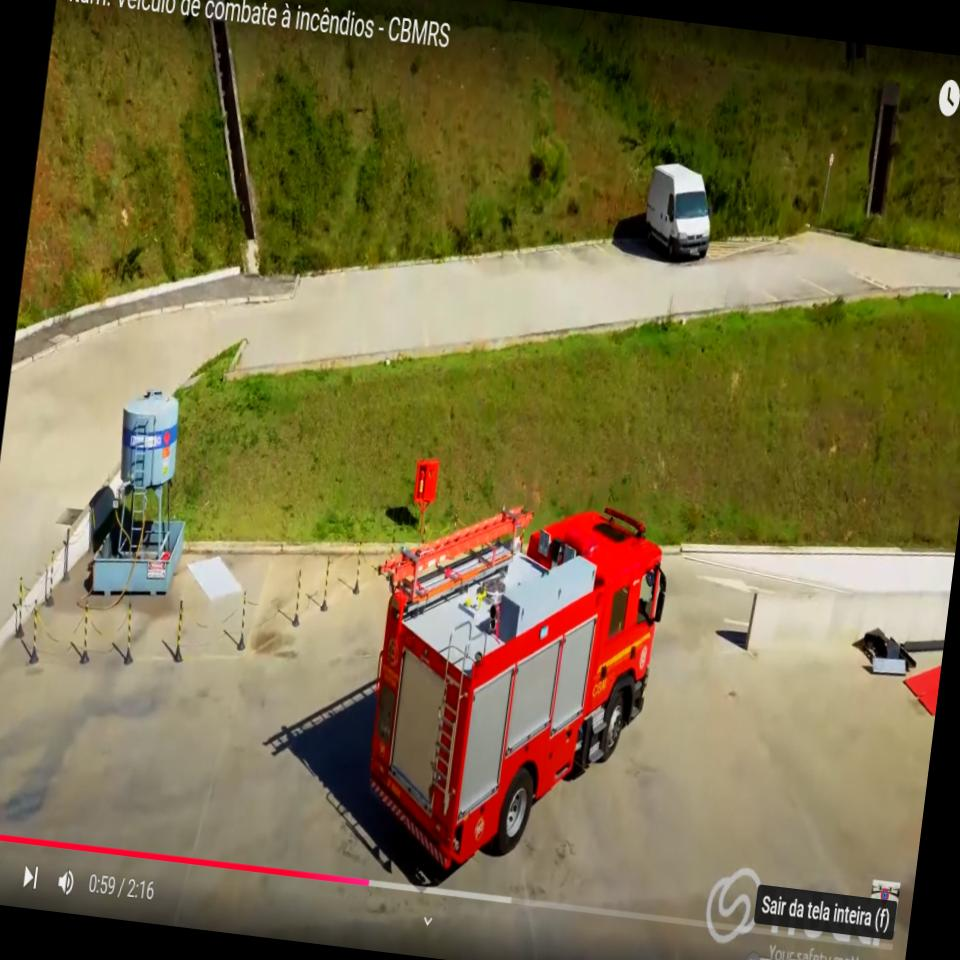viatura: (340, 471, 679, 898)
